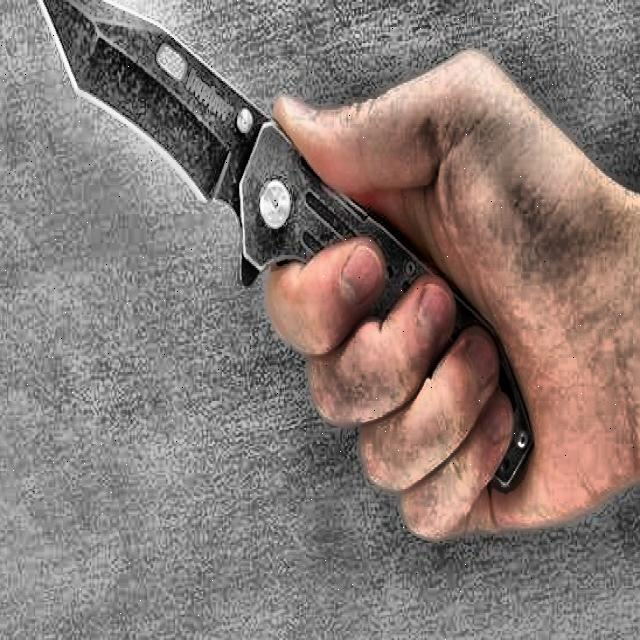knife: (28, 0, 533, 489)
